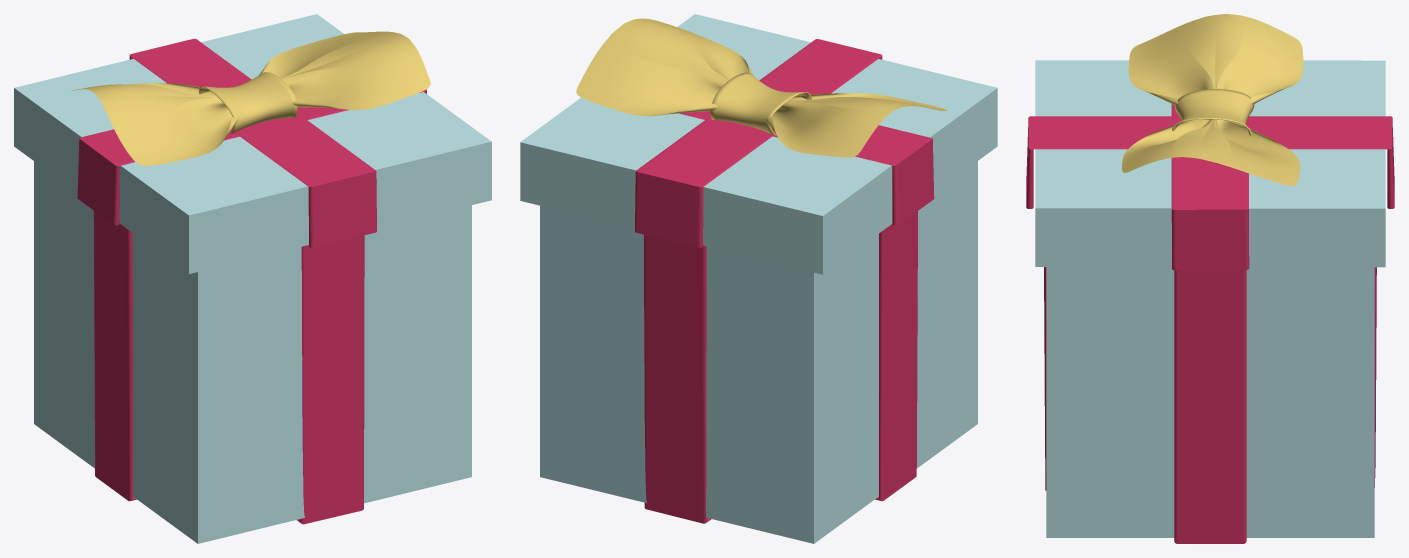
File: present_closed.fbx
3 views of the same model, side by side, from view 1: azimuth 30°, elevation 25°; view 2: azimuth 150°, elevation 25°; view 3: azimuth 270°, elevation 25° (orthographic).
Visible parts, largest first — view 1: together_closed_present; view 2: together_closed_present; view 3: together_closed_present.
Part boxes in pixels (x1,y1,x2,y2): together_closed_present: (14,14,491,543); together_closed_present: (520,14,997,543); together_closed_present: (1026,14,1394,543).
Bounding box in the file's own units: 230 × 272 × 232.
